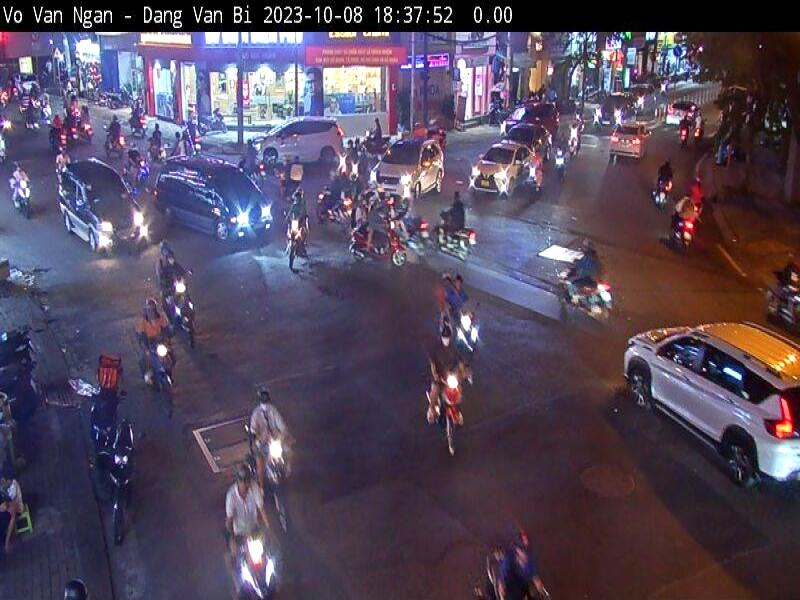car: (628, 267, 800, 526), (151, 144, 257, 278), (51, 160, 146, 264), (376, 118, 450, 222), (476, 126, 550, 217), (251, 110, 340, 168)
